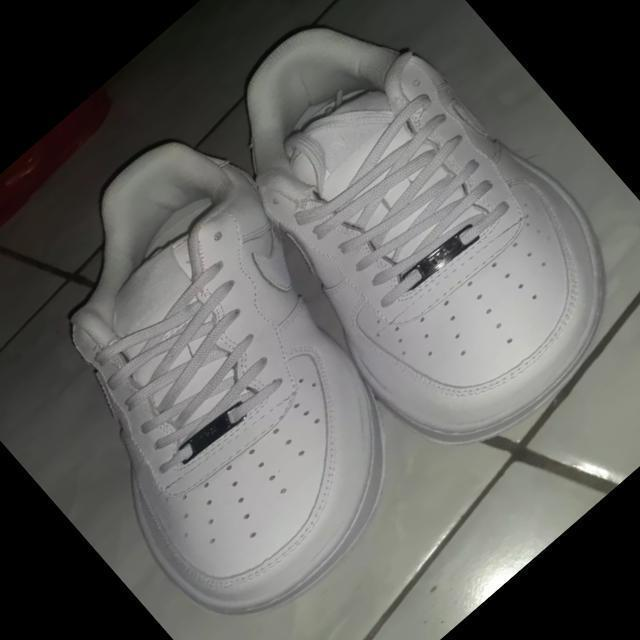nike fake air force: (0, 105, 484, 640), (150, 0, 640, 485)
